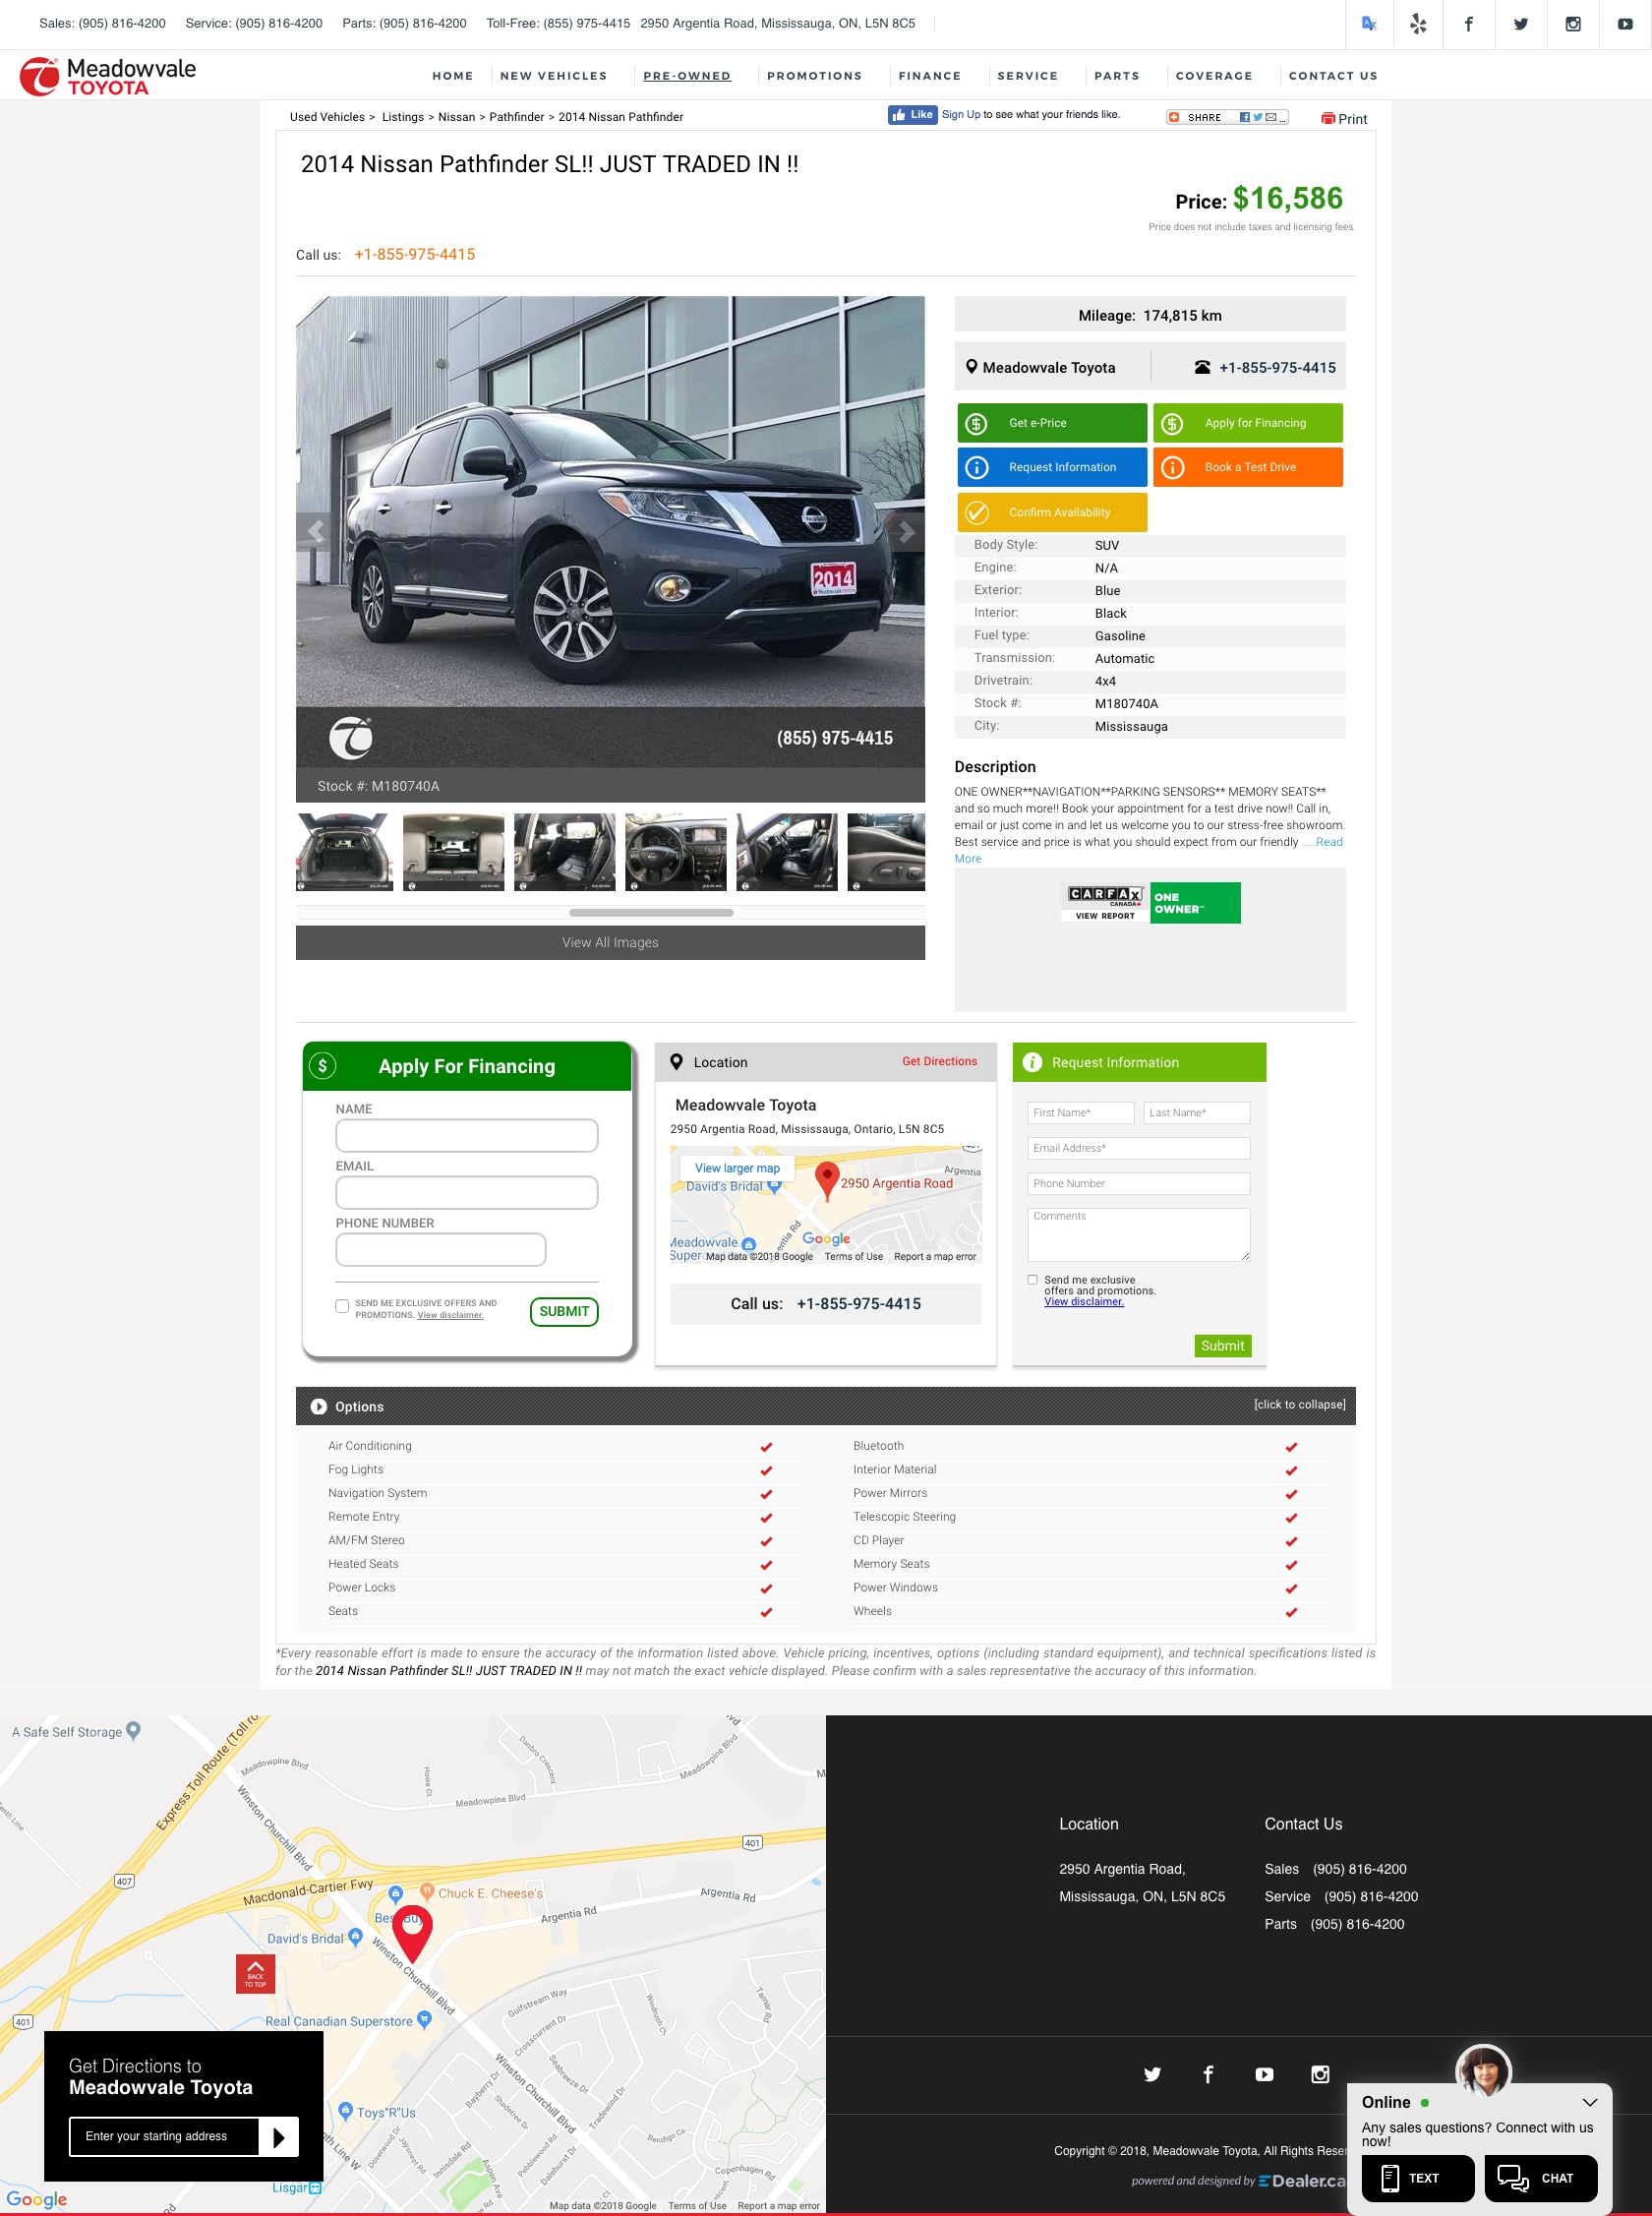car: (899, 521, 916, 547)
